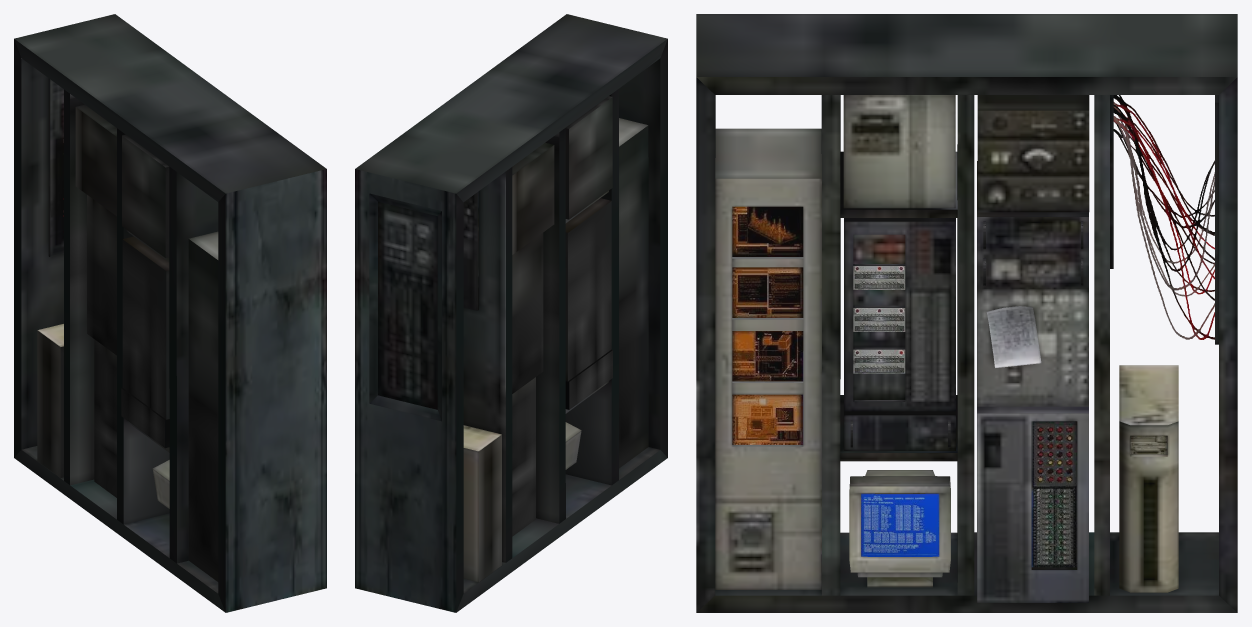
The model's file is servers.glb.
3 views of the same model, side by side, from view 1: azimuth 30°, elevation 25°; view 2: azimuth 150°, elevation 25°; view 3: azimuth 270°, elevation 25° (orthographic). The views are drawn at different scales.
Parts seen in each view (by area): view 1: 0_servers_sheet; view 2: 0_servers_sheet; view 3: 0_servers_sheet, 1_servers_disp, 2_server_wires.
Boxes of the visible parts, box(x1,y1,x2,y2) form: 0_servers_sheet: box(14, 14, 326, 612); 0_servers_sheet: box(355, 14, 667, 612); 0_servers_sheet: box(696, 14, 1237, 612); 1_servers_disp: box(732, 206, 1167, 567); 2_server_wires: box(1113, 95, 1214, 339).
Size of the model in its own units: 0.7349 by 2.57 by 2.35.
3 materials, 3 textured.
